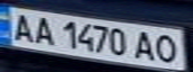0: (109, 25, 130, 57)
1: (54, 18, 78, 50)
4: (75, 20, 93, 52)
7: (90, 24, 109, 54)
A: (6, 10, 39, 43), (130, 29, 160, 62), (30, 15, 57, 46)
O: (151, 33, 184, 65)
